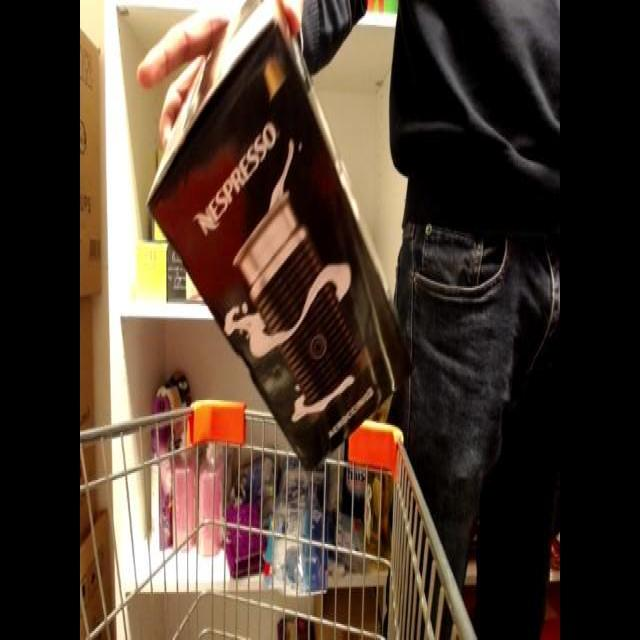Nespresso: (144, 1, 436, 481)
